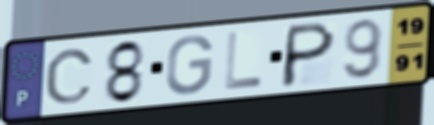8: (102, 36, 147, 106)
9: (341, 16, 386, 81)
C: (43, 47, 96, 106)
G: (163, 33, 216, 98)
L: (222, 29, 266, 93)
P: (277, 19, 339, 89)
